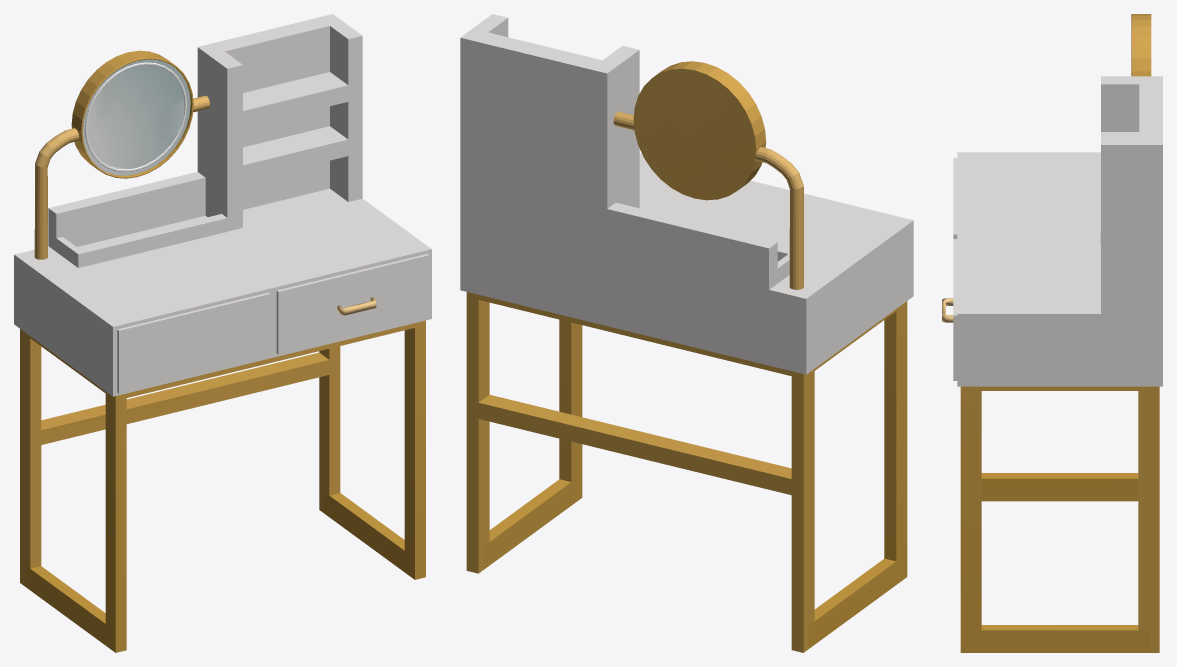
Rendered from modern dressing table.fbx.
The picture shows the model from 3 angles, left to right: view 1: azimuth 30°, elevation 25°; view 2: azimuth 150°, elevation 25°; view 3: azimuth 270°, elevation 25°; orthographic projection. The views are drawn at different scales.
Visible parts, largest first — view 1: modern dressing table; view 2: modern dressing table; view 3: modern dressing table.
Boxes of the visible parts, box(x1,y1,x2,y2) form: modern dressing table: box(14, 14, 431, 652); modern dressing table: box(460, 14, 913, 652); modern dressing table: box(942, 14, 1162, 652).
Bounding box in the file's own units: 93.38 × 142 × 53.91.
1 material, 1 textured.
